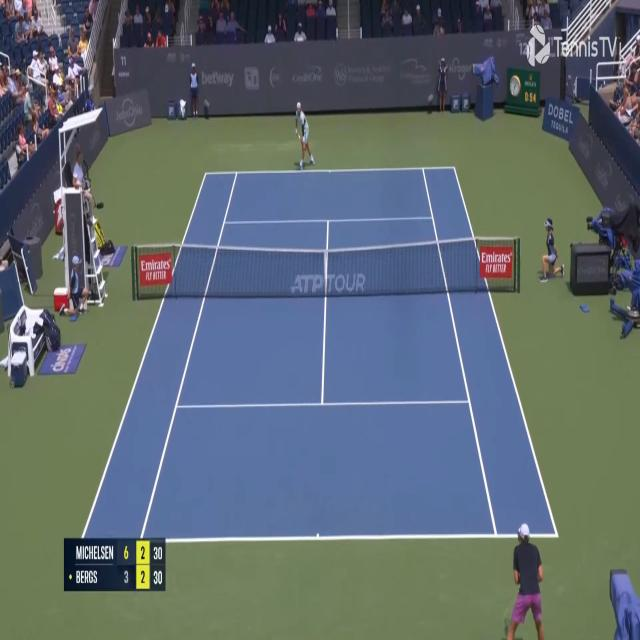tennis-player: (502, 520, 547, 640), (292, 99, 317, 172)
